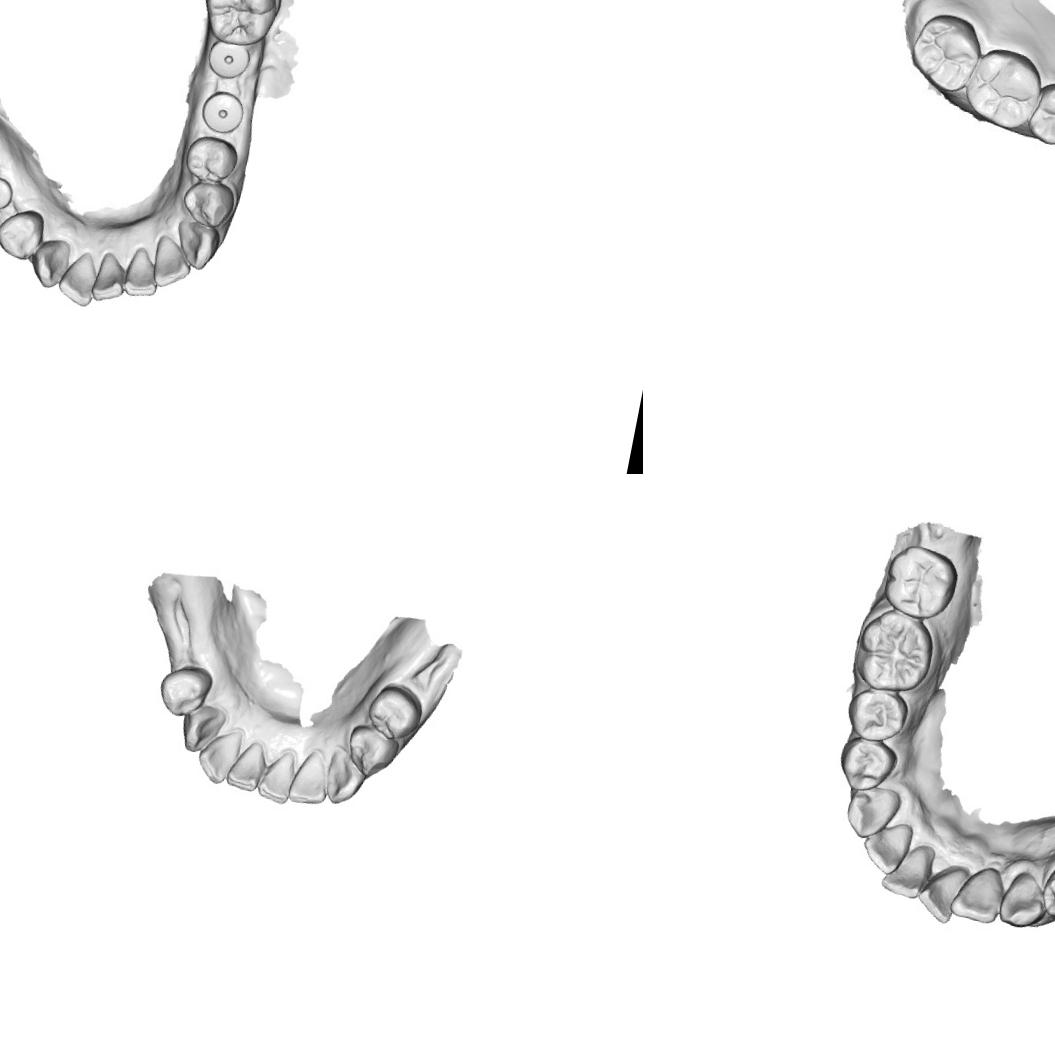canine: (839, 778, 906, 846), (996, 864, 1052, 934), (318, 742, 369, 810), (169, 218, 226, 274), (175, 698, 228, 758), (27, 230, 75, 294)
implant: (196, 84, 248, 136), (204, 38, 253, 84), (0, 172, 15, 213)
incisor: (913, 854, 971, 927), (948, 860, 1010, 928), (857, 812, 916, 878), (190, 722, 248, 789), (878, 837, 936, 902), (283, 746, 337, 810), (142, 230, 195, 293), (52, 247, 104, 310), (252, 744, 300, 806), (116, 242, 164, 301), (222, 734, 269, 794), (88, 247, 130, 306)
molar: (848, 605, 944, 701), (958, 41, 1046, 133), (874, 538, 964, 625), (899, 6, 982, 95), (196, 0, 283, 52)
premolar: (840, 683, 913, 747), (361, 676, 428, 745), (832, 734, 900, 798), (154, 658, 218, 724), (337, 720, 401, 784), (180, 131, 241, 188), (176, 176, 238, 231), (0, 201, 47, 265), (1021, 77, 1055, 149), (1038, 859, 1055, 927)
